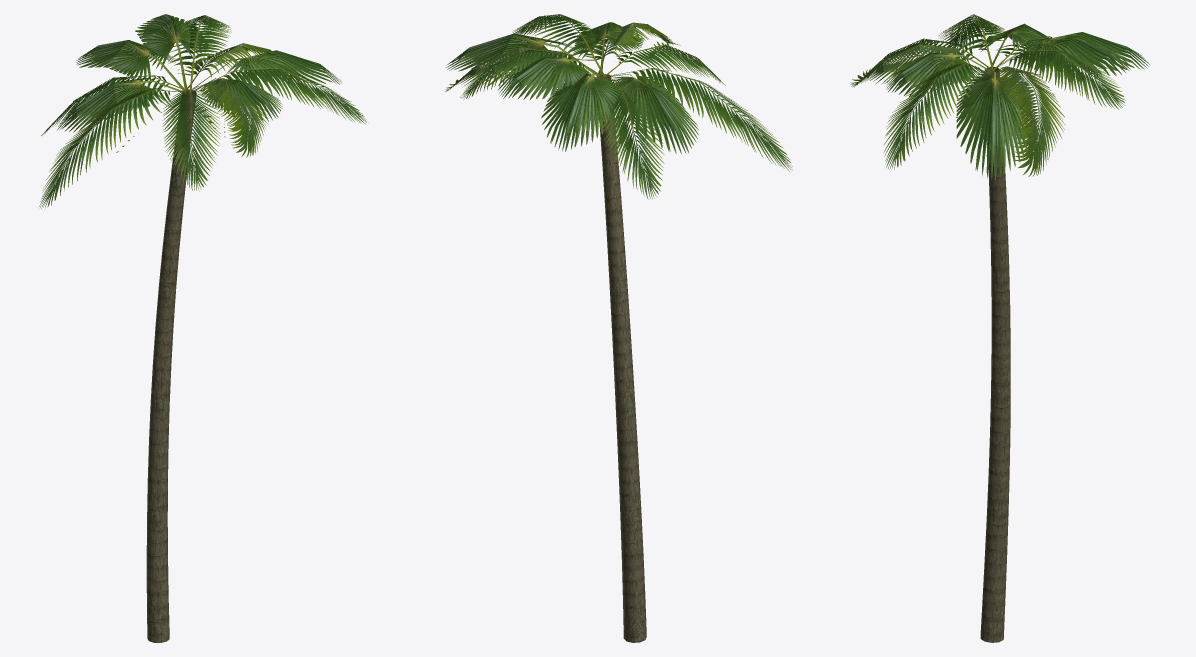
The model's file is palm_02.glb.
3 views of the same model, side by side, from view 1: azimuth 30°, elevation 25°; view 2: azimuth 150°, elevation 25°; view 3: azimuth 270°, elevation 25° (orthographic). The views are drawn at different scales.
Visible parts, largest first — view 1: palm_02; view 2: palm_02; view 3: palm_02.
Part boxes in pixels (bbox=[...]): palm_02: bbox=[39, 14, 366, 642]; palm_02: bbox=[445, 14, 792, 642]; palm_02: bbox=[850, 14, 1149, 642].
Size of the model in its own units: 6.81 by 10.76 by 5.35.
2 materials, 2 textured.
